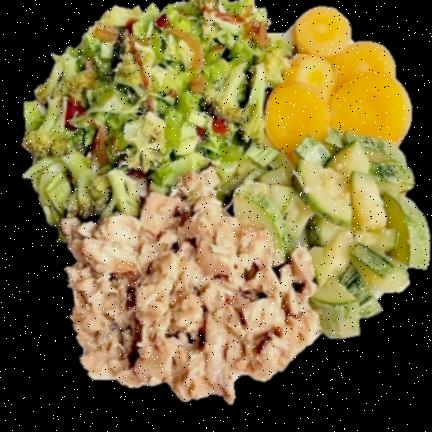broccoli: (26, 0, 288, 221)
cassava: (260, 5, 414, 159)
chicken: (58, 192, 319, 401)
green_vegetables: (224, 130, 430, 337)
